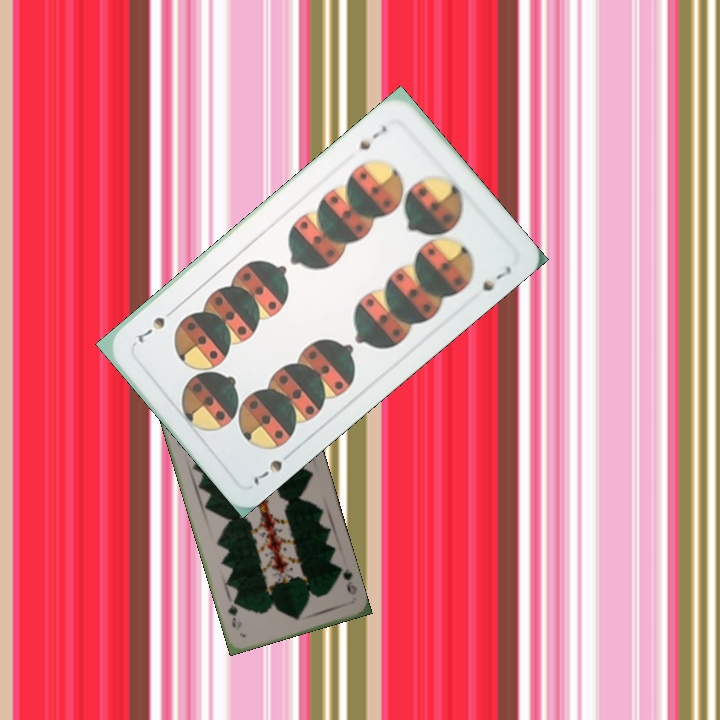G9: (334, 563, 360, 597)
S7: (249, 446, 297, 489), (355, 121, 389, 153)
